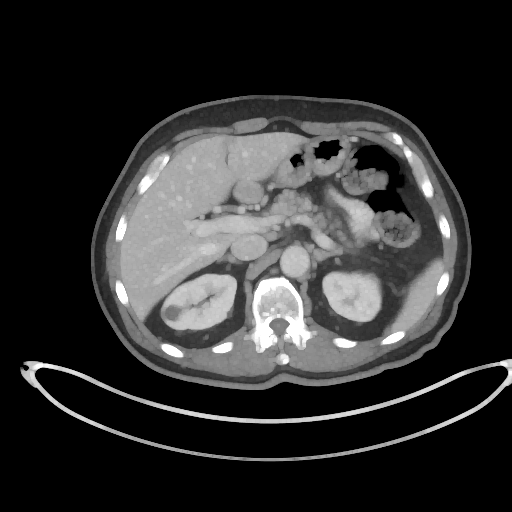Lesion: (163, 302, 183, 321)
